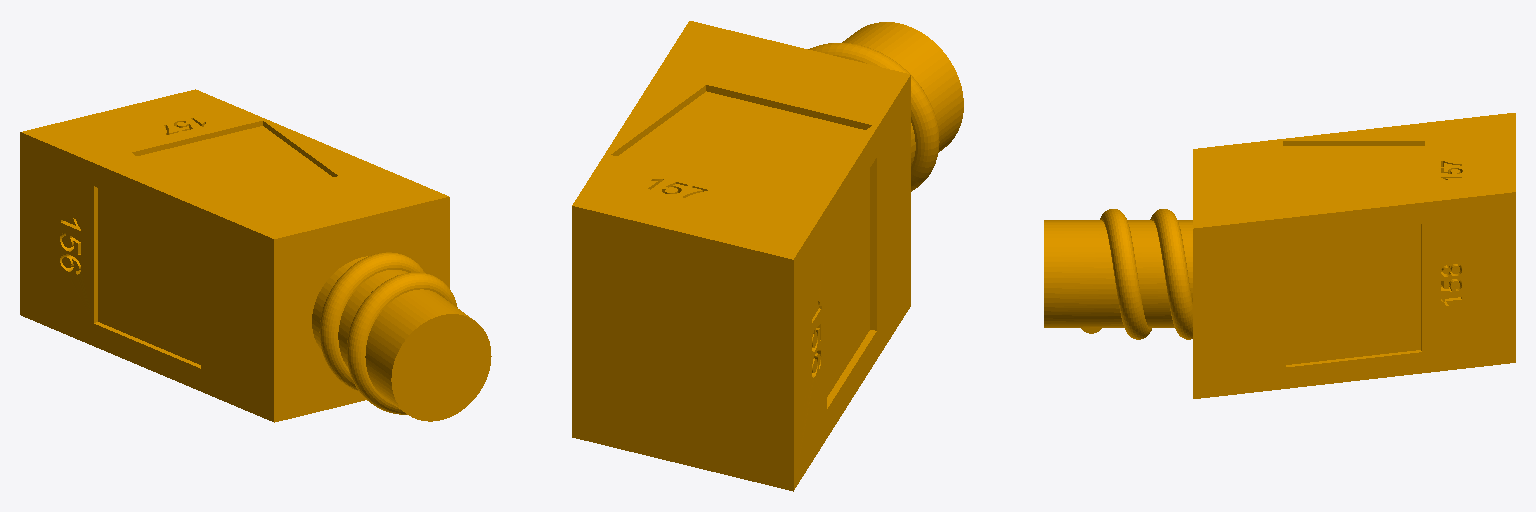
robot.urdf — stool_leg3:
<?xml version="1.0"?>
<robot name="stool_leg3">
    <link name="stool_leg3">
        <visual>
            <geometry>
                <mesh filename="../mesh/stool/stool_leg3.obj" scale="1 1 1"/>
            </geometry>
        </visual>
        <collision>
            <geometry>
                <mesh filename="../mesh/stool/stool_leg3.obj" scale="1 1 1"/>
            </geometry>
            <sdf resolution="512"/>
        </collision>
    </link>
</robot>

--- Facts derived from the render (not from the file) ---
The picture shows the robot from 3 angles, left to right: view 1: azimuth 30°, elevation 25°; view 2: azimuth 150°, elevation 25°; view 3: azimuth 270°, elevation 25°; orthographic projection.
Model stool_leg3 with 1 links and 0 joints (none), rooted at stool_leg3, posed every joint at zero.
Visible links, largest first — view 1: stool_leg3; view 2: stool_leg3; view 3: stool_leg3.
Link boxes in pixels (left/top/right/bottom): stool_leg3: left=20, top=89, right=491, bottom=422; stool_leg3: left=572, top=21, right=963, bottom=491; stool_leg3: left=1044, top=113, right=1515, bottom=398.
Size in the robot's own frame: 0.0511 by 0.0875 by 0.035 metres.
1 mesh visuals loaded from 1 distinct referenced files (1 OBJ).